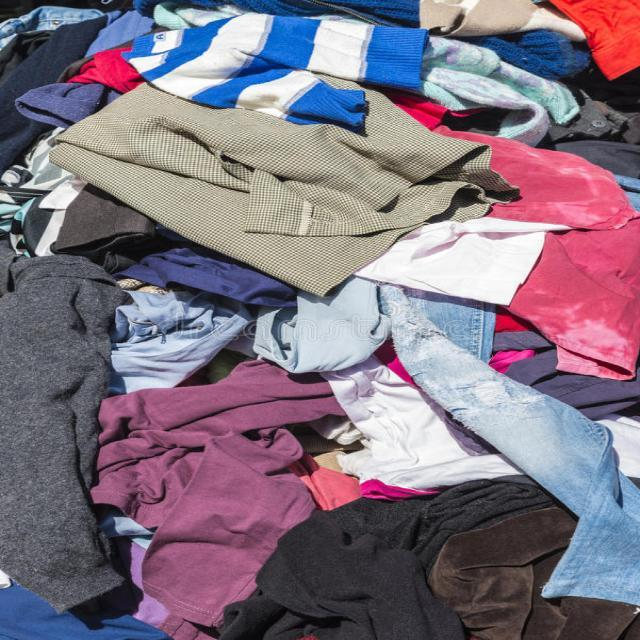clothes: (10, 23, 640, 639)
